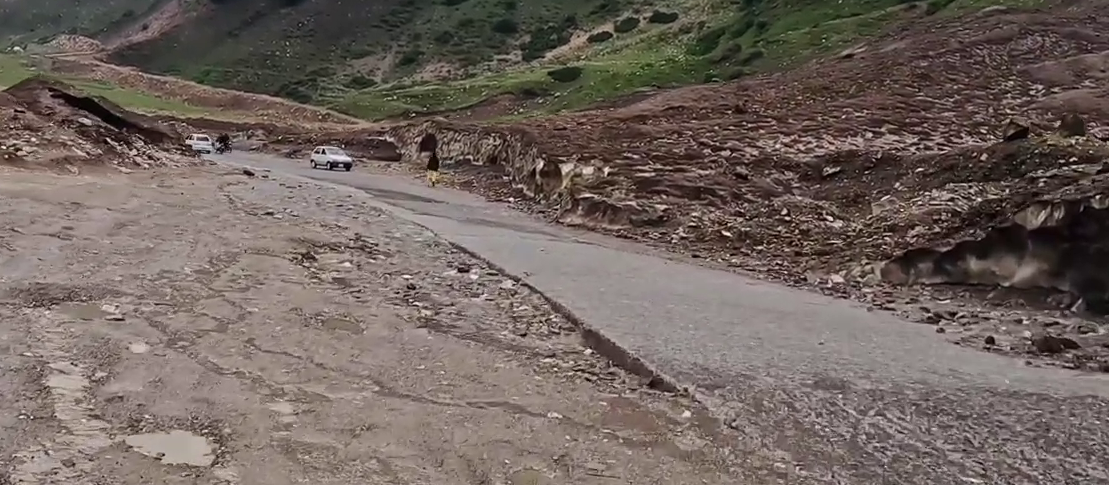unexpected: (112, 112, 559, 385)
